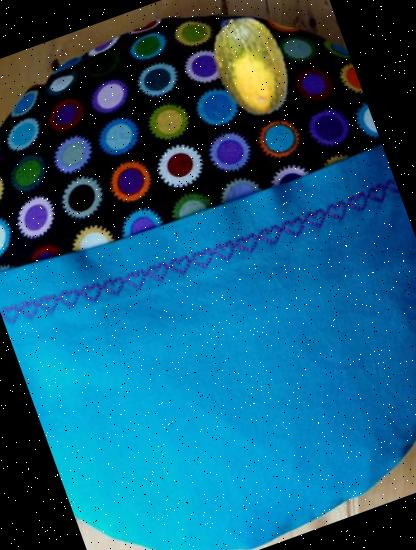Melon: (181, 2, 312, 133)
